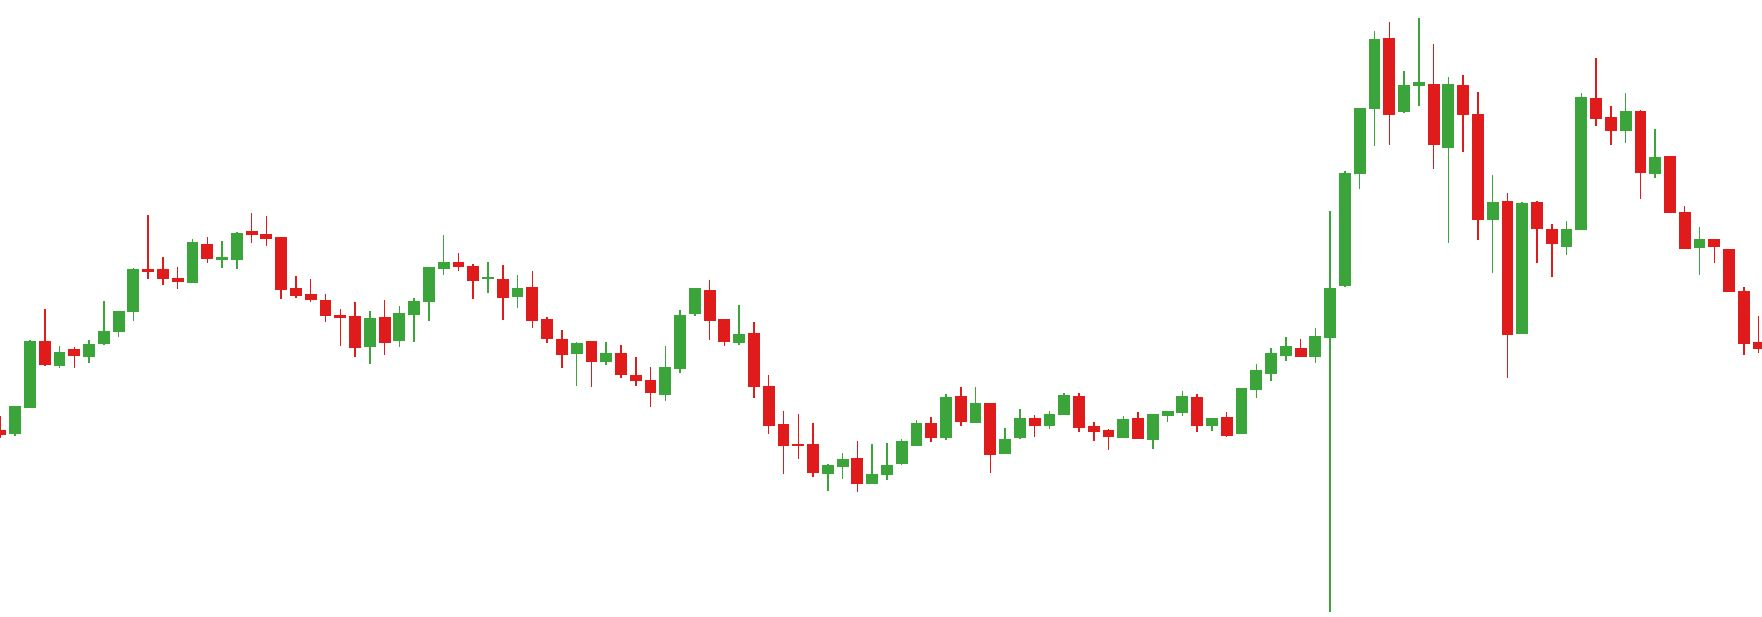sell: (1470, 58, 1607, 199)
